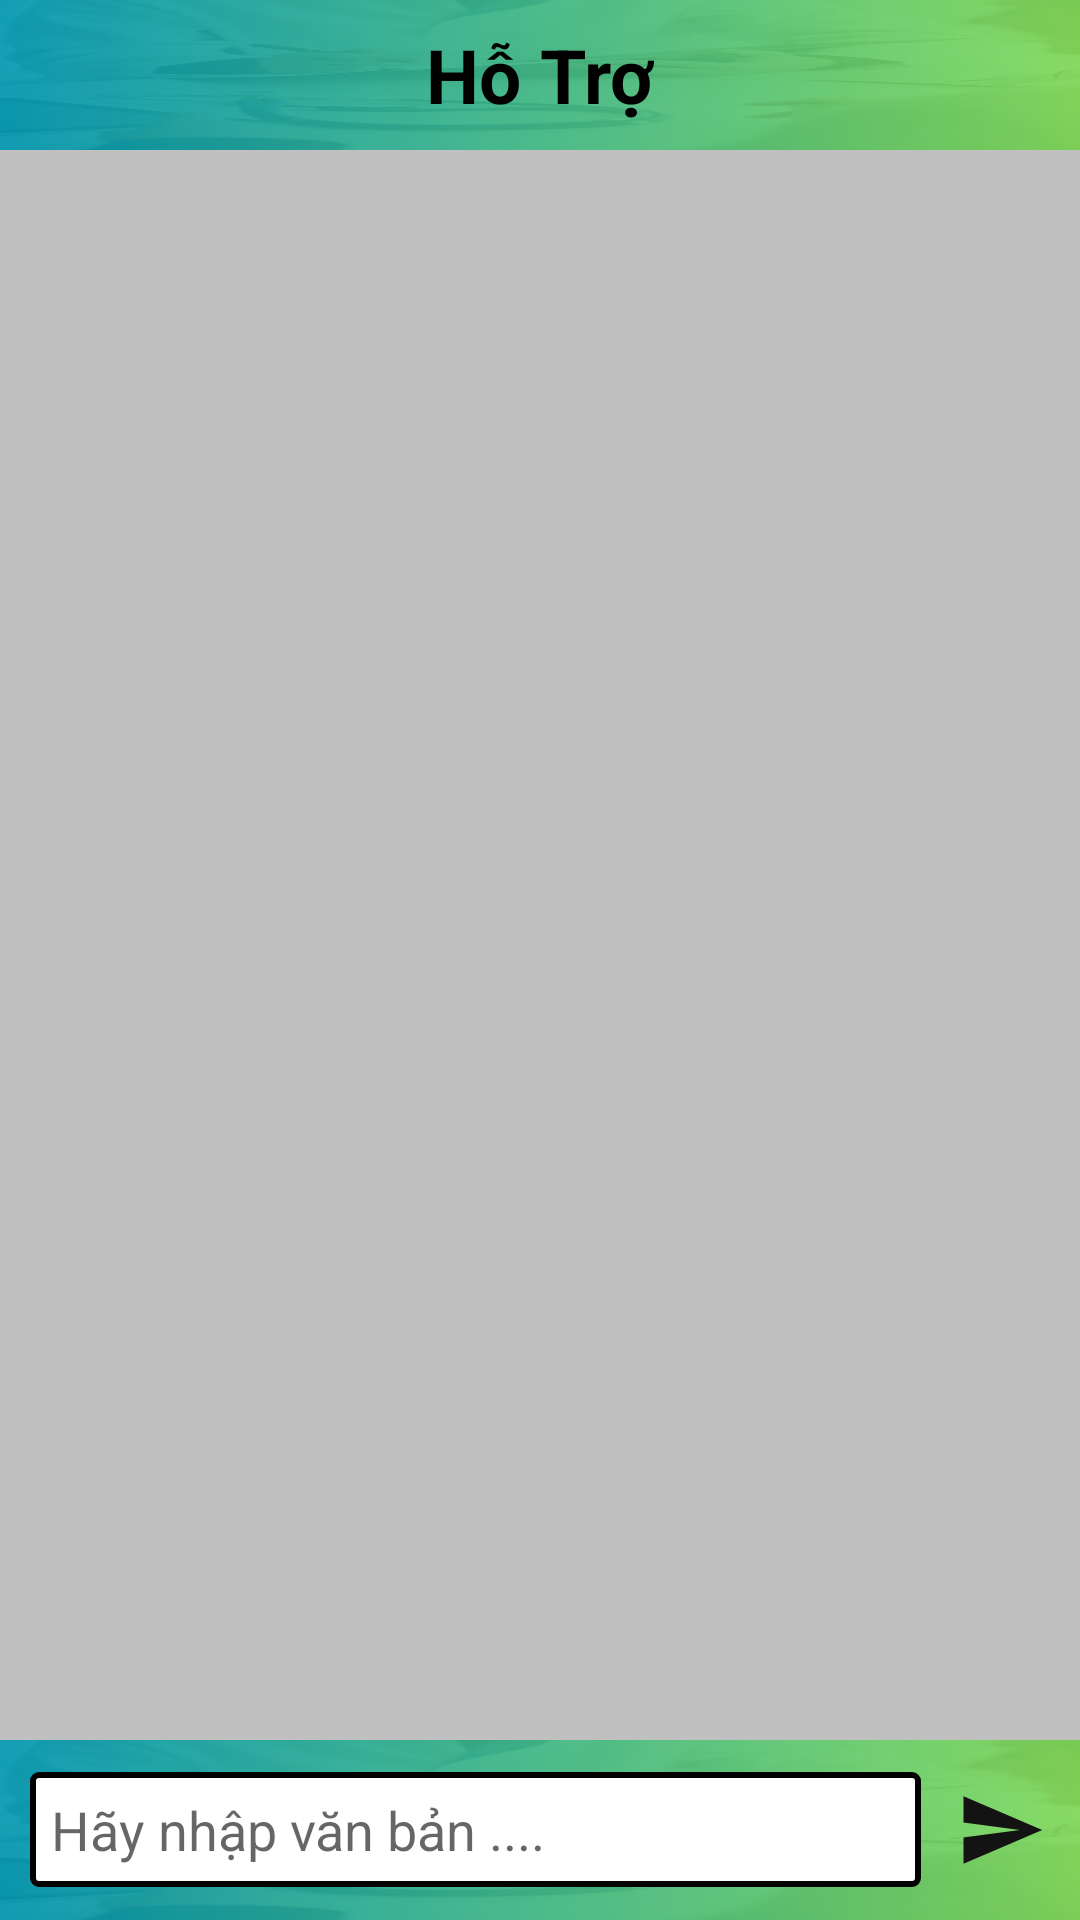

Named icons in this screenshot (1080 × 1920) and their bounding boxes, (x1, y1, x2, y2):
send: (963, 1796, 1042, 1864)
